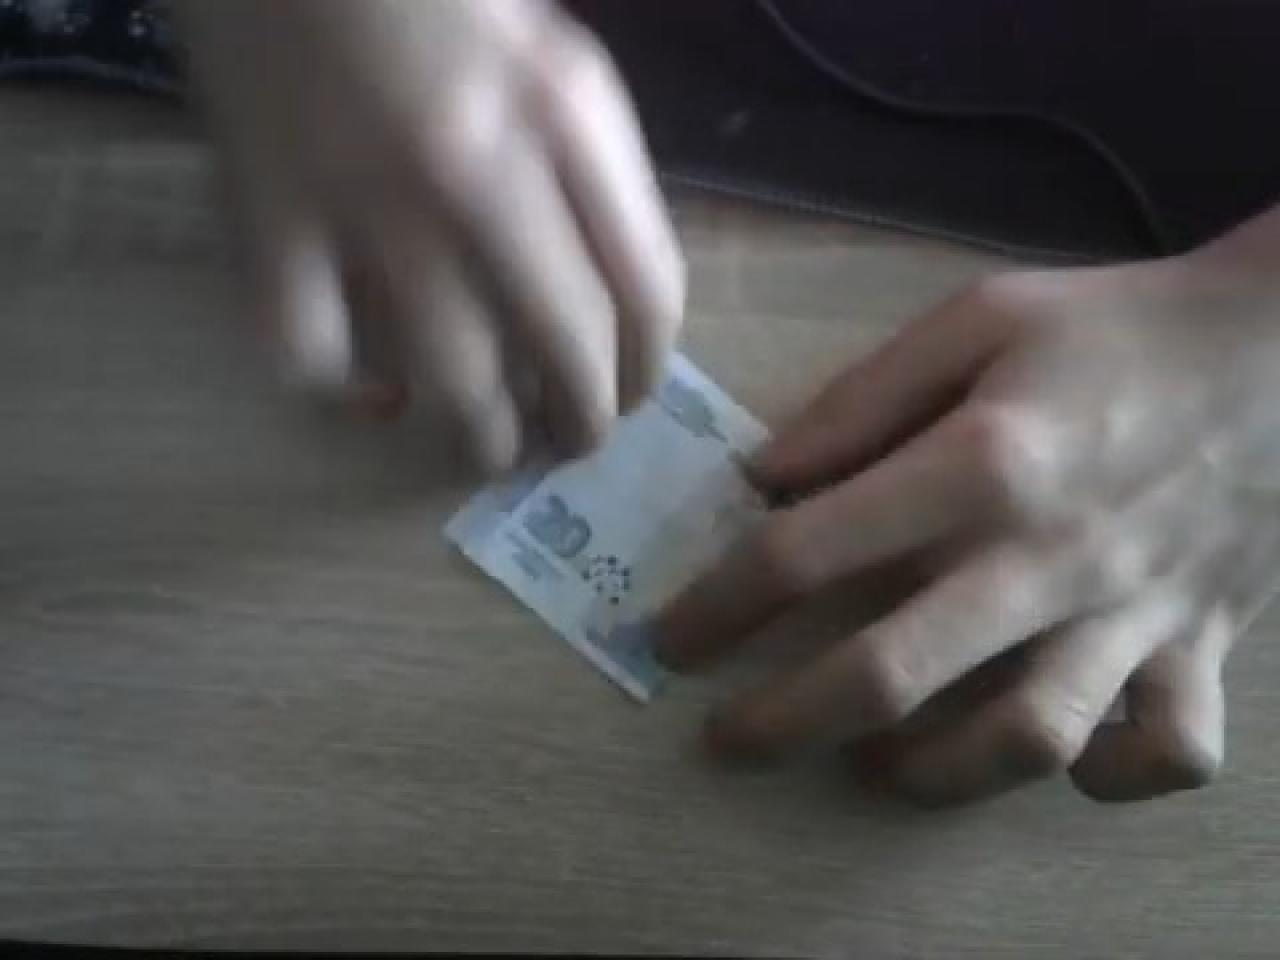20leva: (440, 355, 773, 707)
